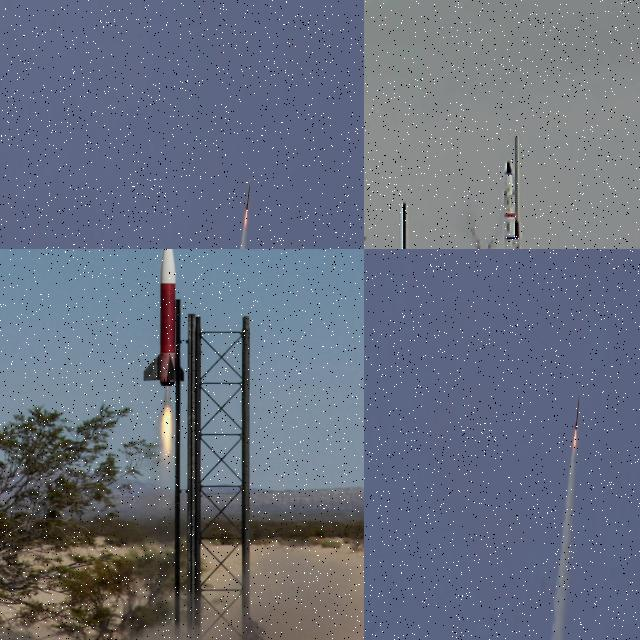Rocket: (142, 249, 186, 388), (501, 160, 519, 249), (574, 394, 580, 432), (245, 180, 250, 210)
